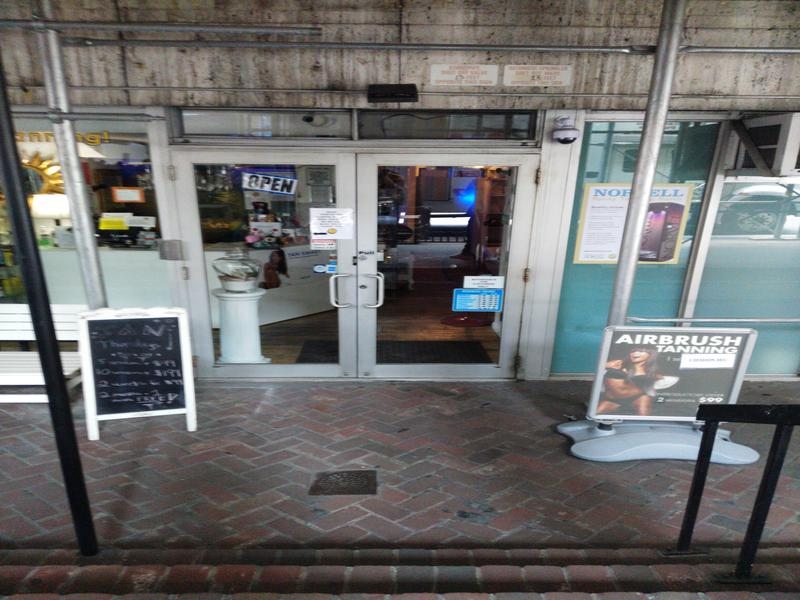double_door: (171, 137, 544, 386)
